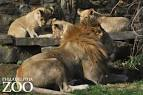lion: (16, 18, 121, 88)
